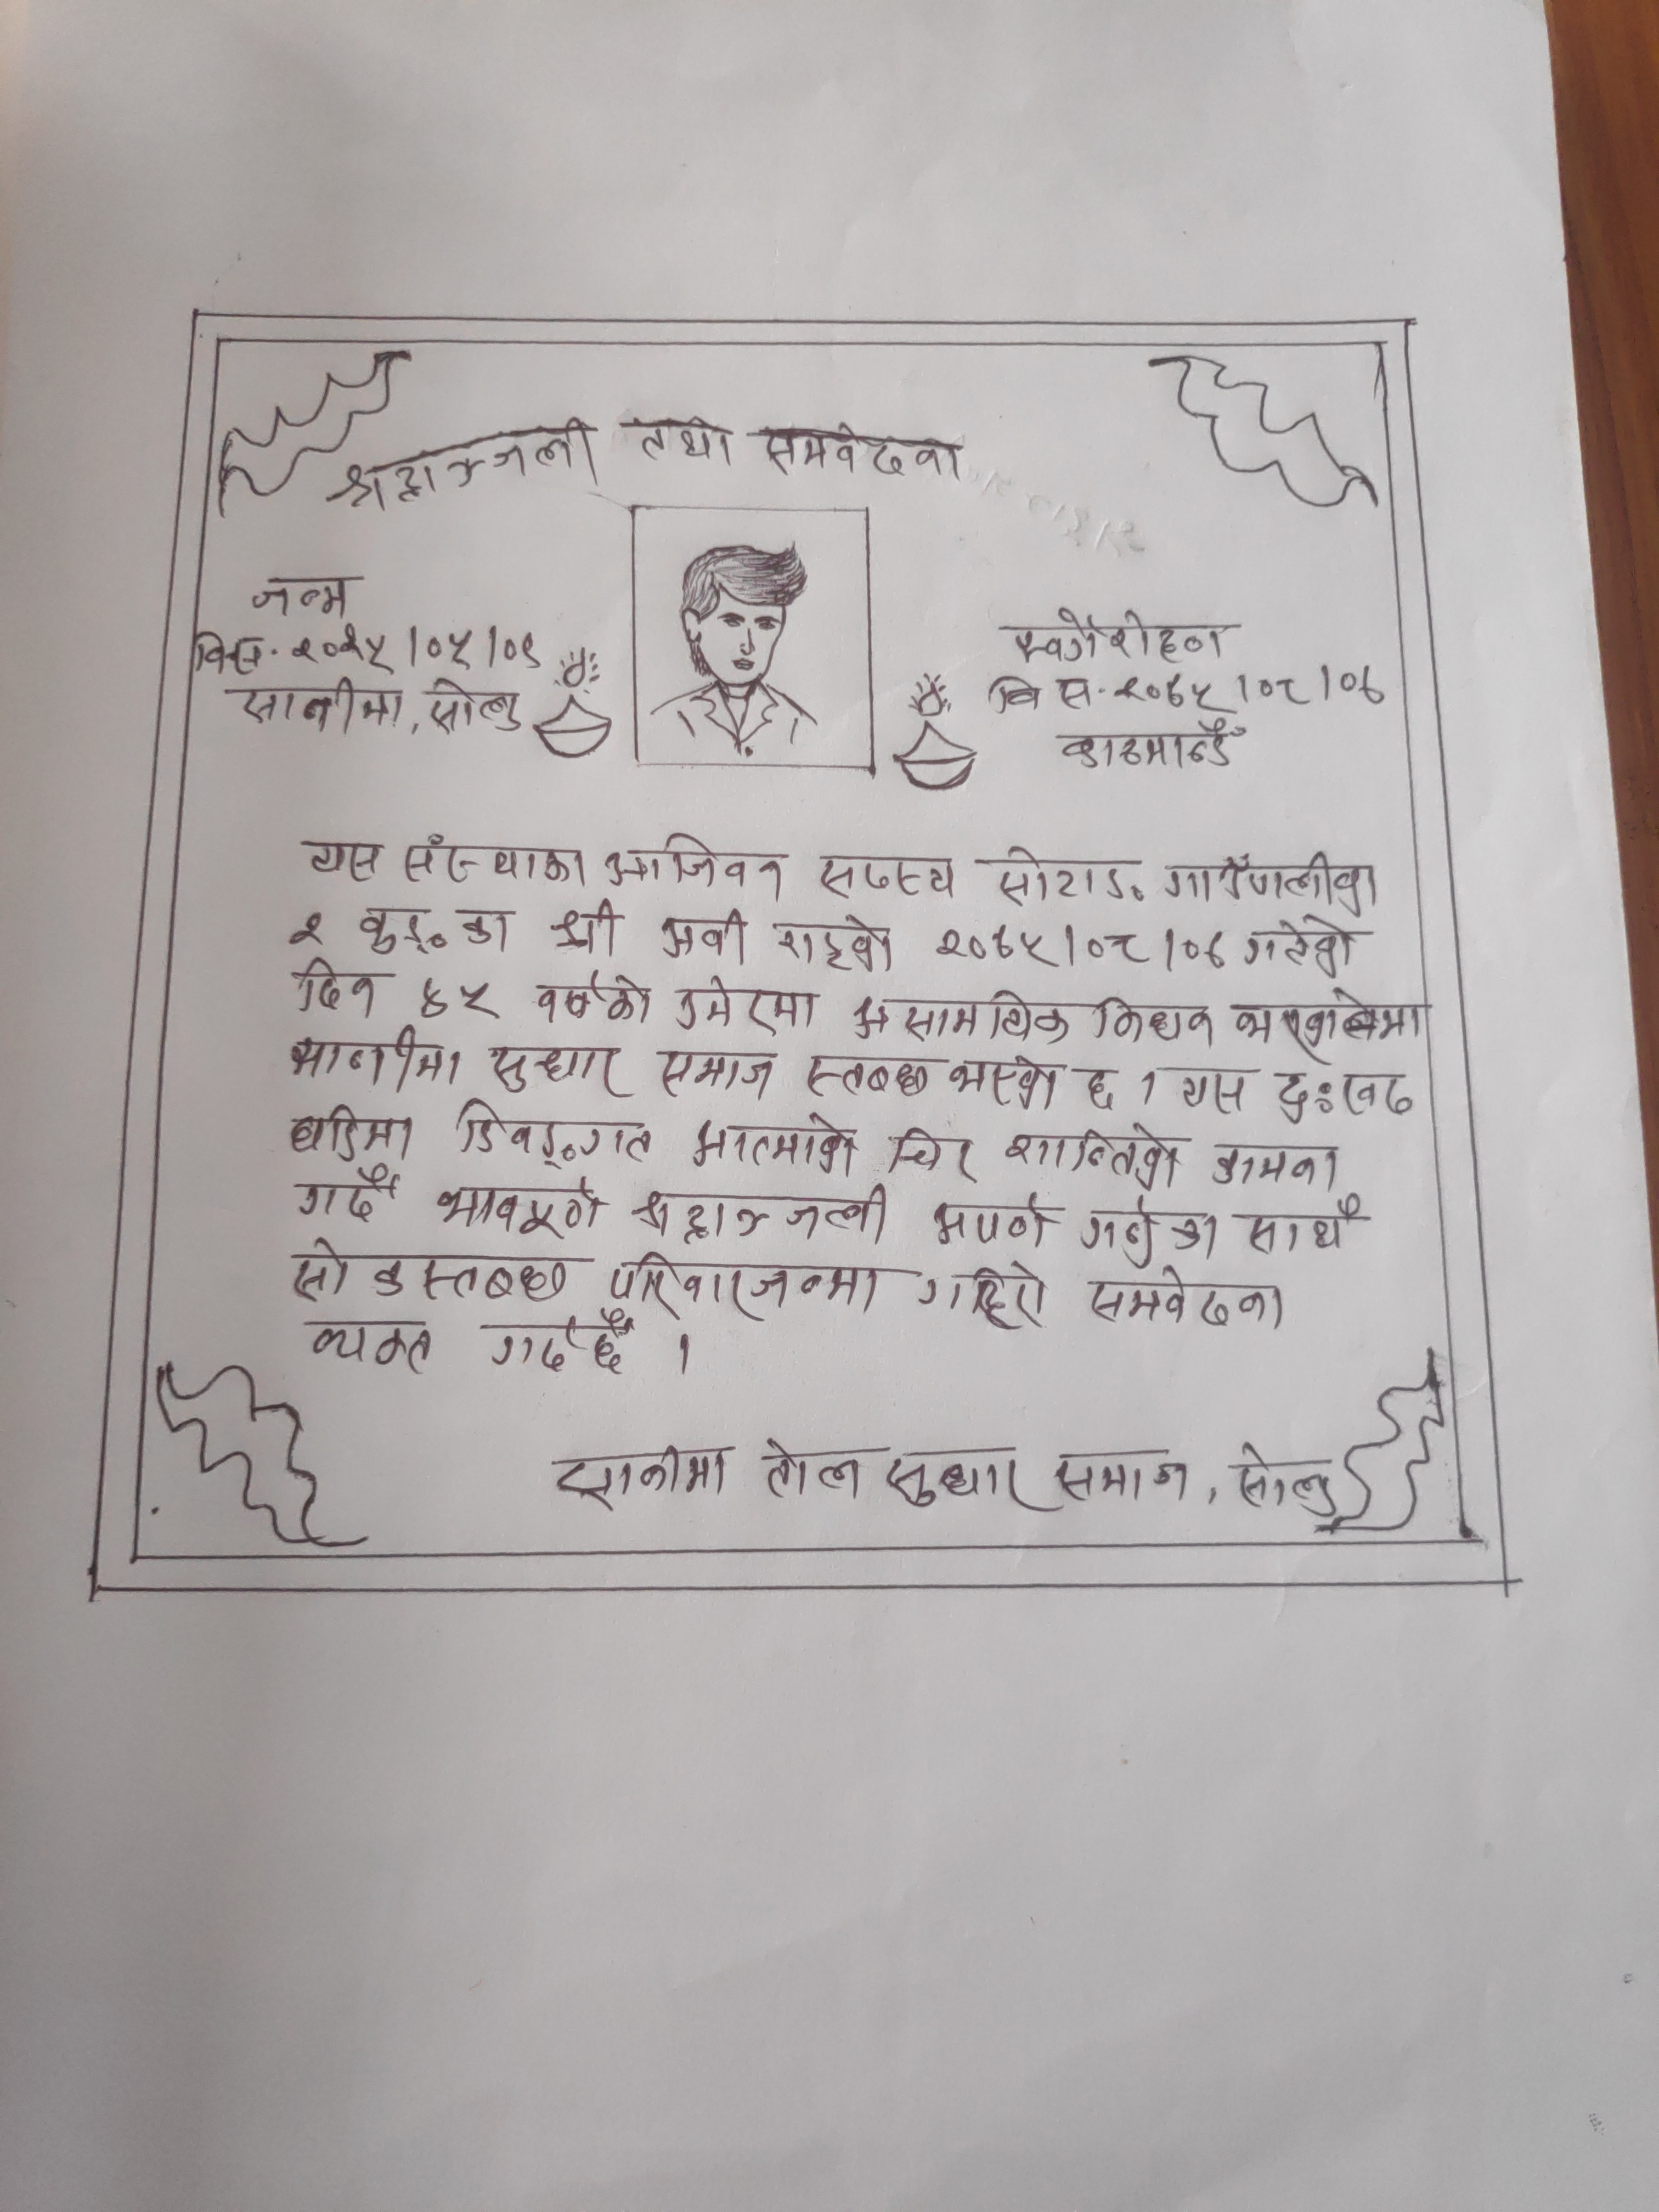text: (331, 420, 606, 512), (288, 1238, 577, 1306), (627, 1183, 897, 1247), (606, 1251, 882, 1313), (932, 918, 1232, 970), (1222, 988, 1434, 1059), (281, 617, 545, 672), (756, 418, 969, 486), (1002, 610, 1239, 667), (1089, 1270, 1290, 1334), (1164, 850, 1378, 909), (455, 1104, 652, 1169), (547, 1446, 735, 1510), (854, 989, 1073, 1043), (1115, 665, 1387, 709), (434, 1176, 601, 1245), (1000, 1129, 1188, 1190), (603, 833, 789, 894), (692, 1113, 859, 1181), (284, 1029, 467, 1090), (1054, 718, 1248, 775), (401, 831, 587, 890), (993, 840, 1145, 909), (1079, 1195, 1222, 1268), (483, 1308, 631, 1378), (885, 1451, 1035, 1519), (667, 972, 817, 1038), (232, 681, 408, 737), (354, 900, 514, 958), (918, 1261, 1054, 1327), (295, 1313, 437, 1376), (490, 1035, 626, 1099), (1051, 1449, 1197, 1508), (1272, 1071, 1424, 1127), (1232, 1439, 1337, 1517), (770, 909, 894, 972), (802, 1045, 936, 1103), (652, 1047, 779, 1106), (946, 1050, 1063, 1115), (286, 1109, 418, 1165), (925, 1193, 1058, 1249), (1244, 911, 1361, 974), (519, 968, 657, 1021), (1244, 1200, 1366, 1258), (812, 853, 957, 900), (425, 674, 526, 740), (1093, 996, 1216, 1050), (756, 1442, 871, 1500), (629, 411, 741, 470), (1204, 1144, 1347, 1190), (291, 951, 383, 1019), (295, 1169, 399, 1224), (662, 904, 753, 967), (992, 669, 1098, 721), (244, 573, 361, 620), (411, 974, 509, 1028), (890, 1125, 978, 1181), (296, 838, 383, 883), (549, 899, 617, 956), (1178, 1064, 1253, 1115), (195, 631, 267, 676), (1070, 1062, 1129, 1115), (286, 907, 331, 953)
